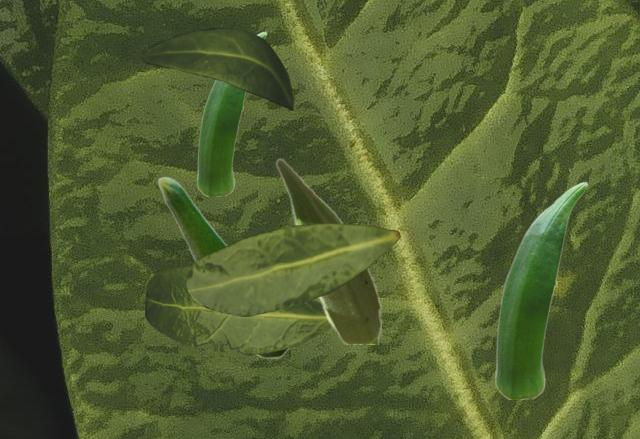okra: (157, 176, 289, 358), (494, 181, 587, 398), (275, 157, 380, 343), (196, 31, 266, 195)
